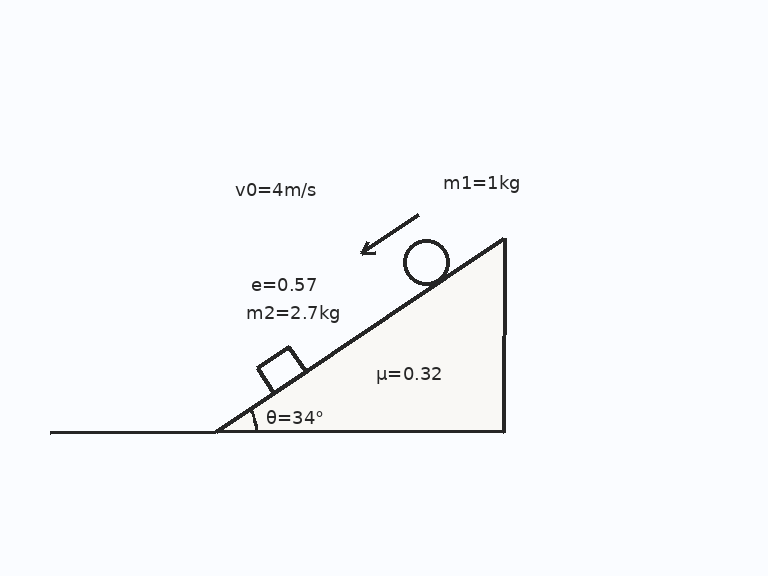ball: (401, 237, 451, 287)
block: (255, 345, 308, 395)
ramp: (214, 236, 505, 433)
